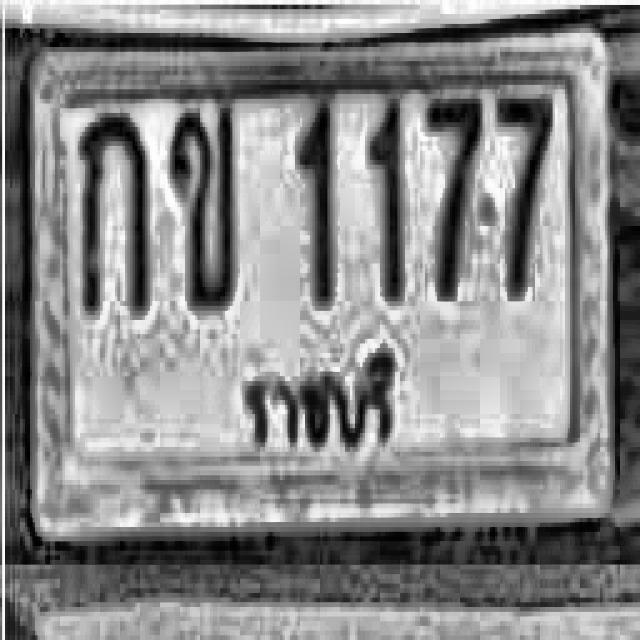license-plate: (25, 18, 617, 542)
